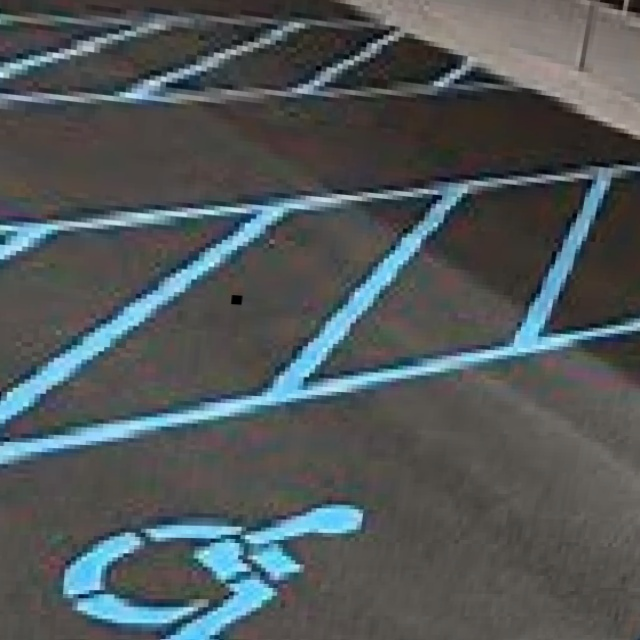ISA: (52, 488, 370, 640)
